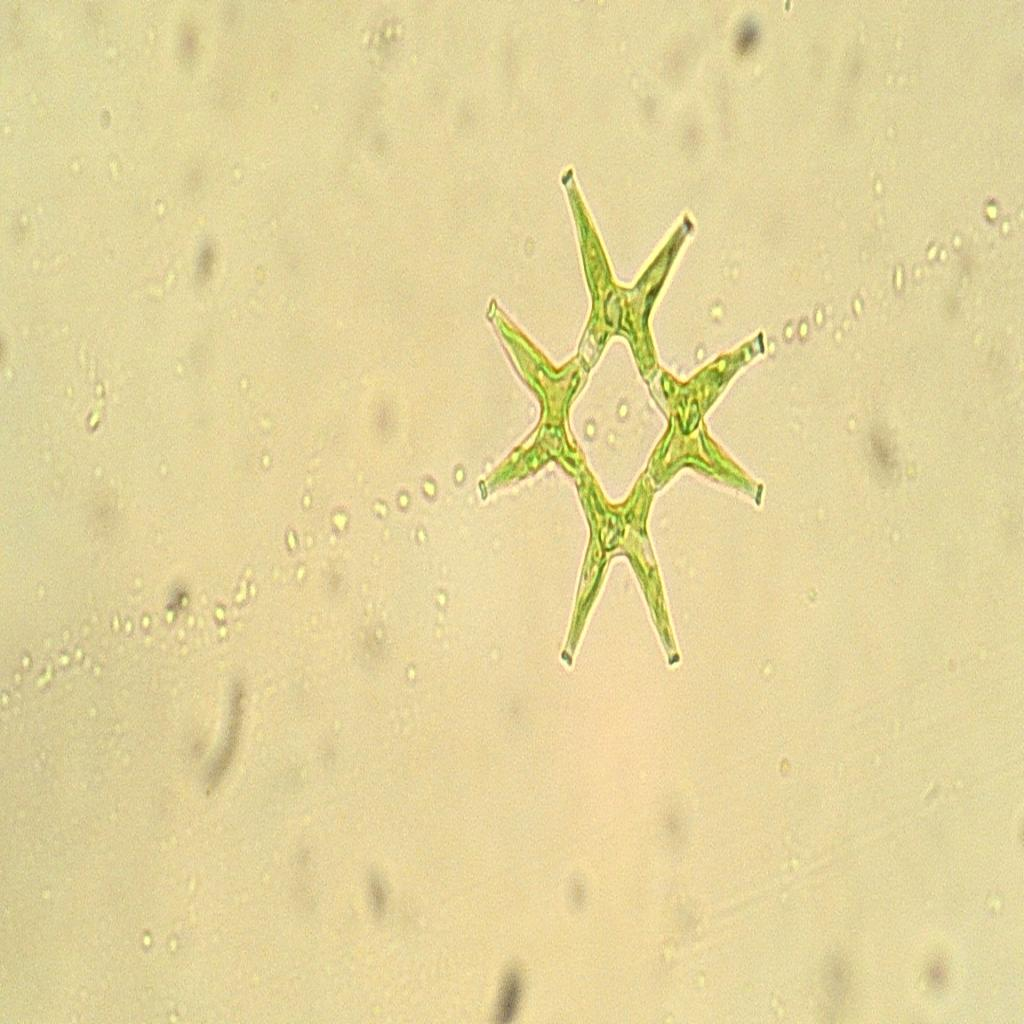Pediastrum_10: (451, 127, 798, 716)
